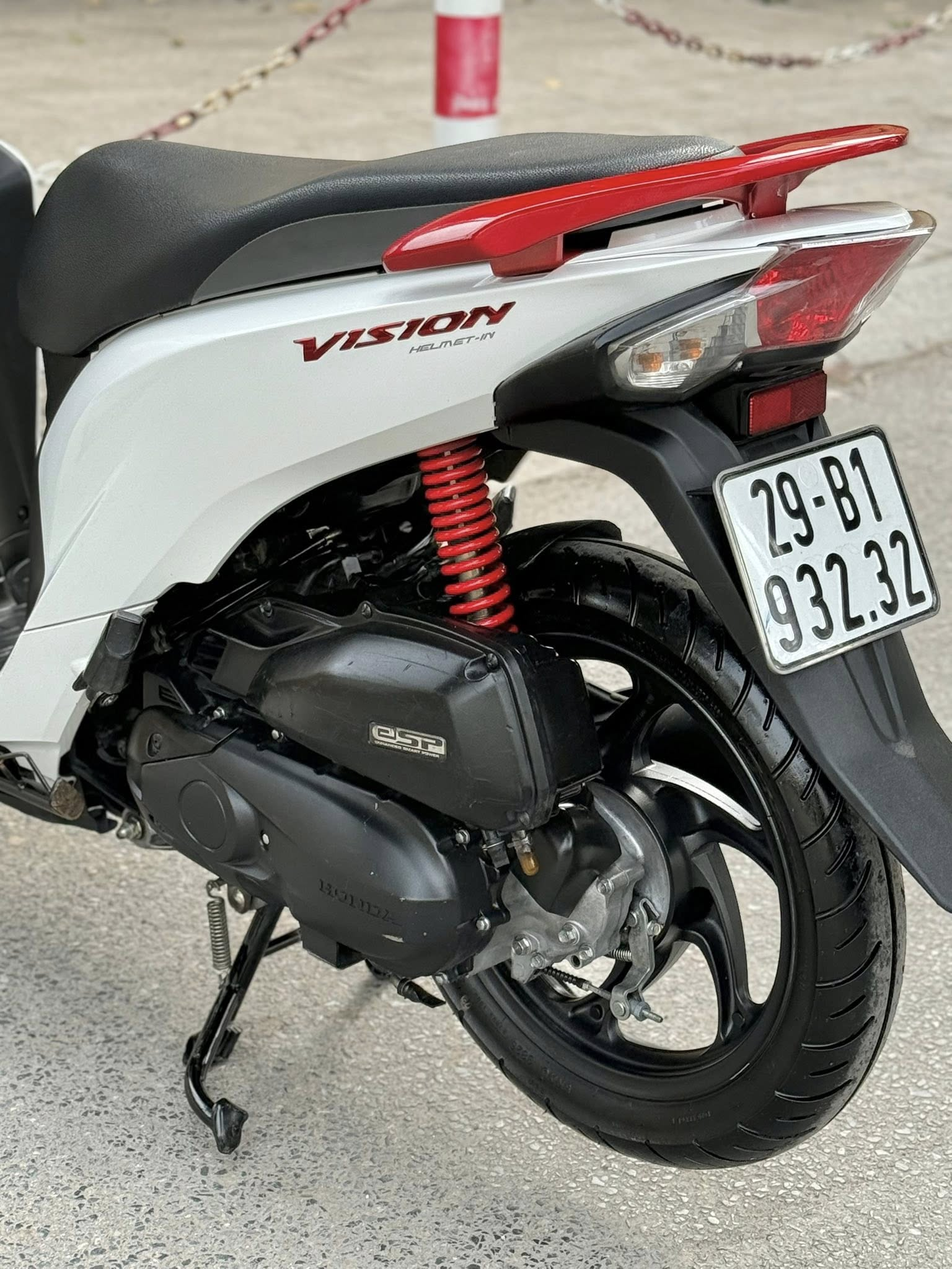bien_so: (705, 418, 945, 678)
